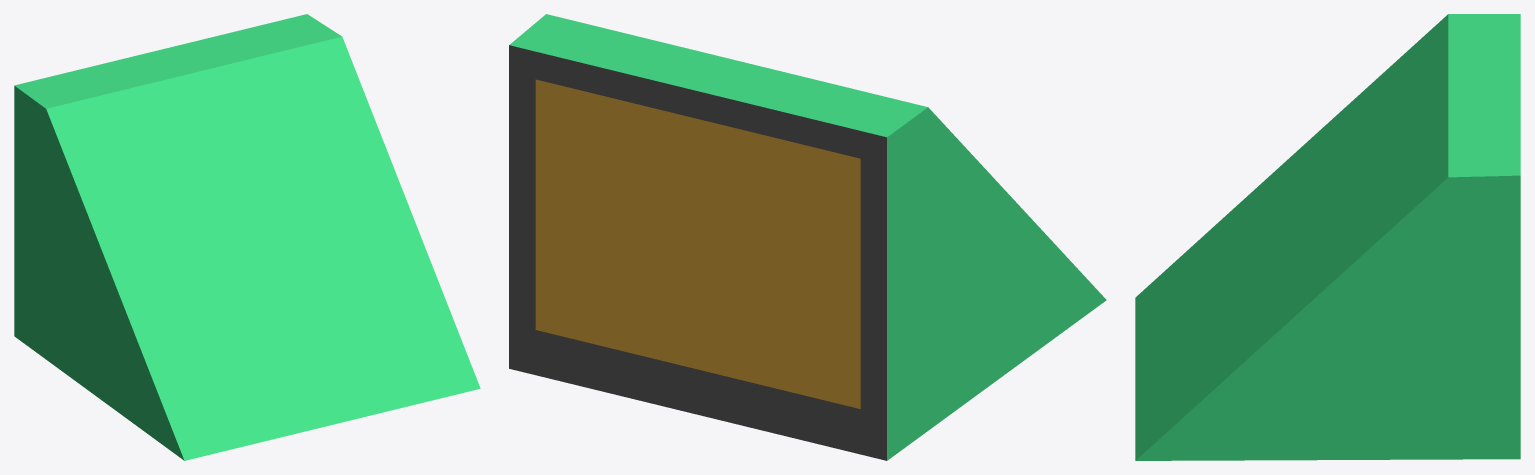
Rendered from pop_up.glb.
3 views of the same model, side by side, from view 1: azimuth 30°, elevation 25°; view 2: azimuth 150°, elevation 25°; view 3: azimuth 270°, elevation 25° (orthographic). The views are drawn at different scales.
Parts seen in each view (by area): view 1: popUp; view 2: popUp; view 3: popUp.
Part boxes in pixels (left/top/right/bottom): popUp: left=14, top=14, right=480, bottom=460; popUp: left=509, top=14, right=1106, bottom=460; popUp: left=1135, top=14, right=1520, bottom=460.
Bounding box in the file's own units: 0.1606 × 0.13 × 0.16.
